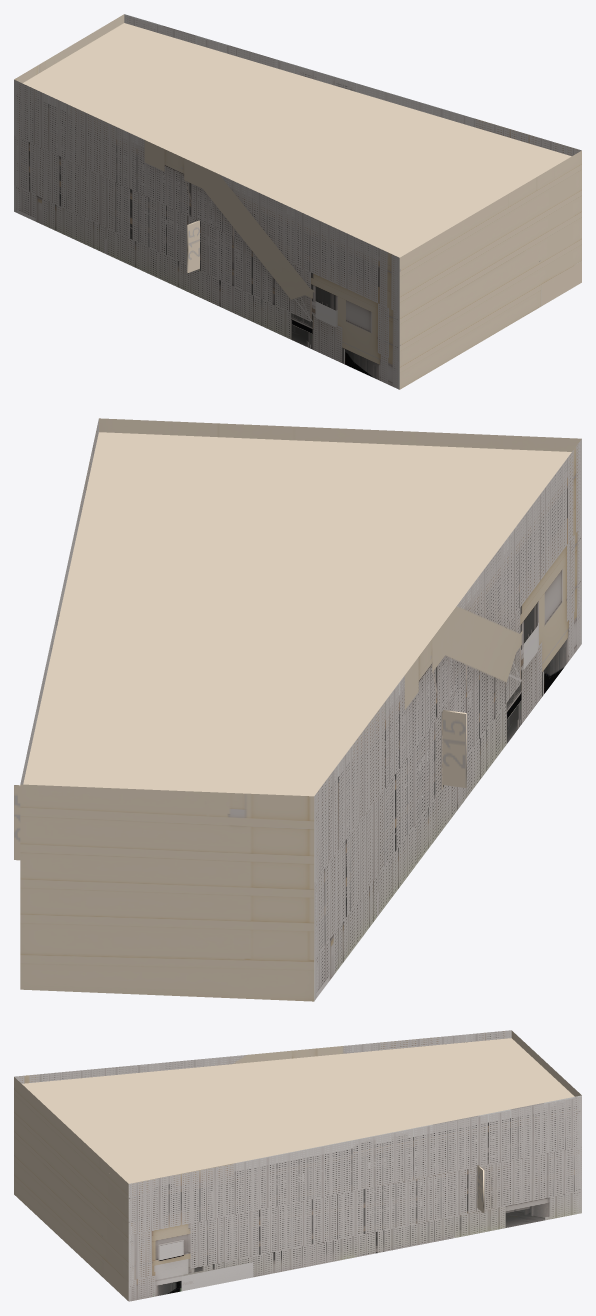
Rendered from Kafd_Base_Location-215.glb.
3 renders of one model, top to bottom at view 1: azimuth 30°, elevation 25°; view 2: azimuth 150°, elevation 25°; view 3: azimuth 270°, elevation 25°, orthographic. The views are drawn at different scales.
Visible parts, largest first — view 1: 215copy; view 2: 215copy; view 3: 215copy.
Part boxes in pixels (x1,y1,x2,y2): 215copy: (14,14,581,389); 215copy: (14,418,581,1001); 215copy: (14,1030,581,1301).
Size of the model in its own units: 59.82 by 21.38 by 93.41.
Materials: 1 (1 with a texture image).
